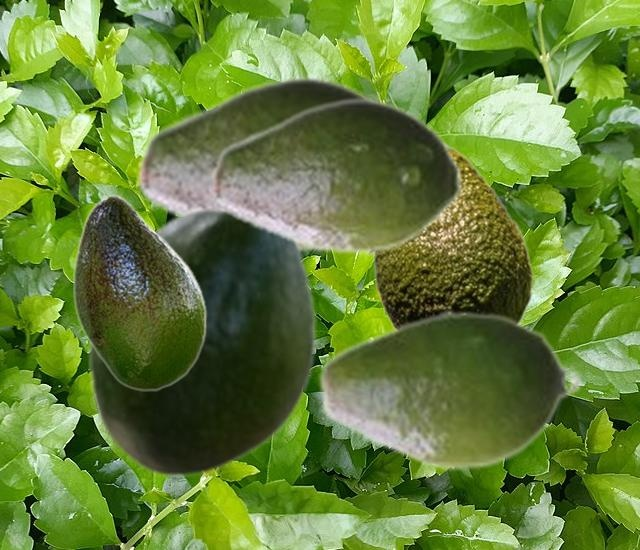avocado: (86, 201, 316, 477), (136, 74, 382, 253), (316, 307, 582, 472), (209, 96, 463, 255), (366, 142, 533, 327), (73, 194, 206, 390)
